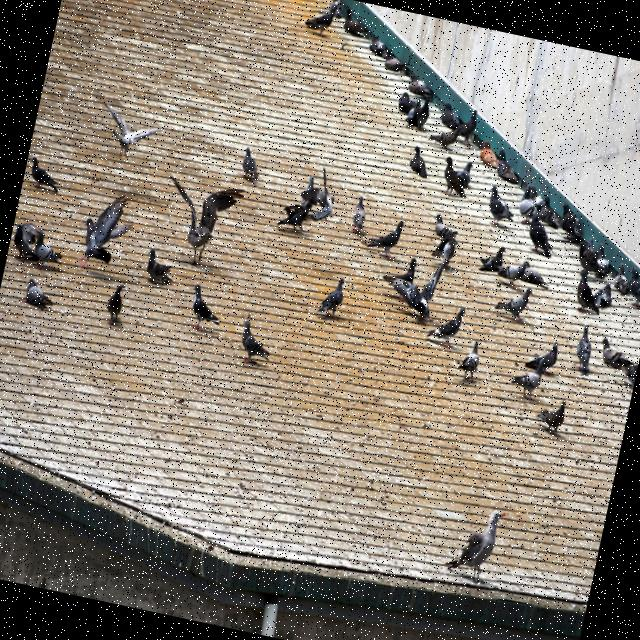bird: (150, 171, 248, 275), (440, 499, 506, 586), (75, 186, 138, 274), (378, 250, 446, 325), (93, 101, 168, 165), (294, 164, 340, 224), (183, 283, 227, 337), (423, 300, 468, 352), (234, 318, 277, 369), (521, 206, 561, 260), (593, 335, 640, 380), (364, 212, 406, 260), (570, 268, 608, 318), (492, 280, 535, 324), (482, 183, 520, 230), (418, 252, 451, 306), (275, 194, 317, 236), (436, 154, 474, 200), (522, 335, 561, 379), (24, 154, 64, 196), (141, 247, 179, 290), (8, 220, 45, 264), (570, 322, 599, 376), (506, 362, 544, 402), (301, 0, 341, 38), (316, 274, 348, 320), (21, 275, 58, 314), (494, 253, 533, 290), (534, 394, 568, 436), (490, 147, 525, 186), (29, 228, 60, 272), (454, 337, 484, 382), (428, 224, 460, 266), (515, 182, 547, 222), (516, 258, 554, 291), (102, 280, 128, 324), (428, 212, 461, 246), (237, 144, 265, 184), (477, 240, 508, 276), (405, 143, 433, 180), (404, 95, 432, 132), (348, 193, 372, 236), (536, 195, 565, 230), (340, 6, 370, 39), (475, 138, 504, 172), (437, 99, 465, 132), (590, 242, 614, 278), (405, 74, 435, 100), (556, 202, 580, 234), (591, 280, 616, 310), (610, 260, 632, 294), (395, 90, 421, 118), (624, 267, 640, 302), (366, 34, 388, 58), (568, 216, 586, 244), (620, 360, 638, 386), (582, 236, 600, 256)
